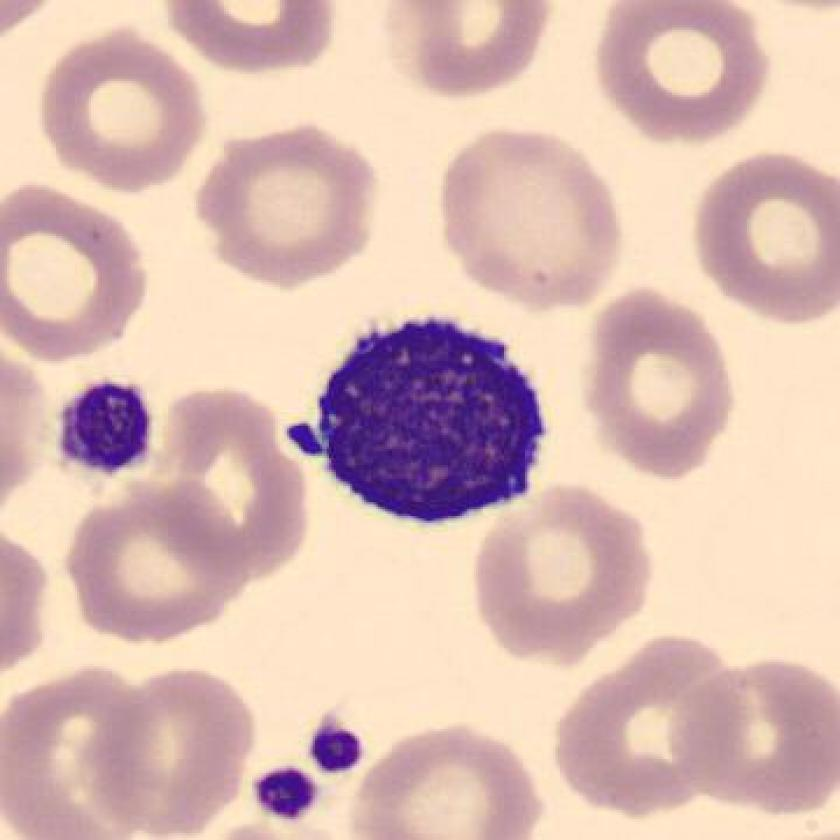lymphocyte: (269, 302, 561, 554)
platelets: (64, 375, 156, 482), (250, 765, 323, 827), (302, 716, 371, 778)
